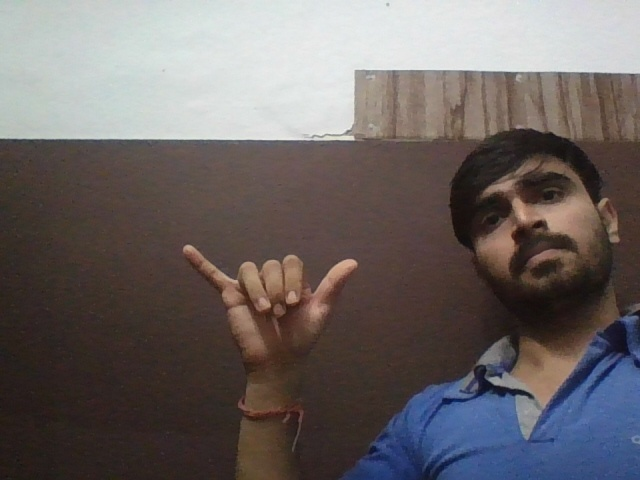Y: (176, 236, 379, 371)
